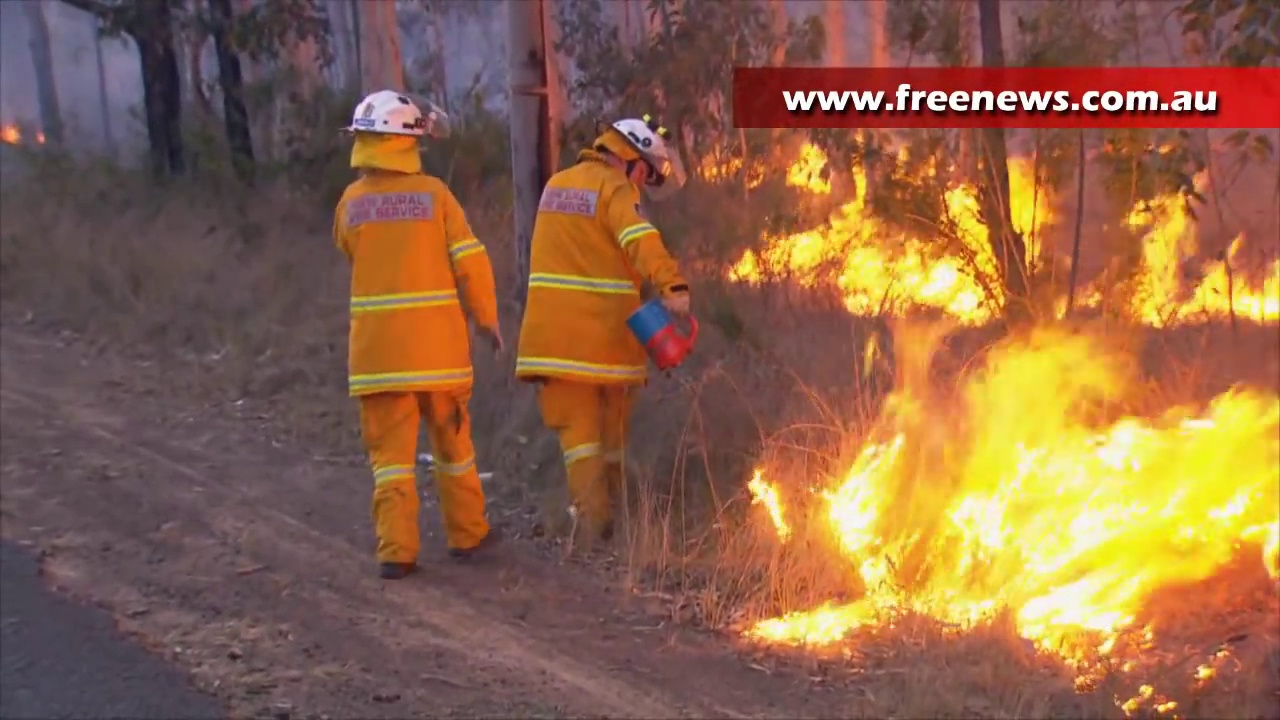fire: (822, 330, 1278, 665), (739, 189, 996, 314), (1130, 179, 1280, 323), (757, 603, 843, 644), (747, 467, 787, 533), (1010, 159, 1042, 225), (792, 142, 825, 183)
